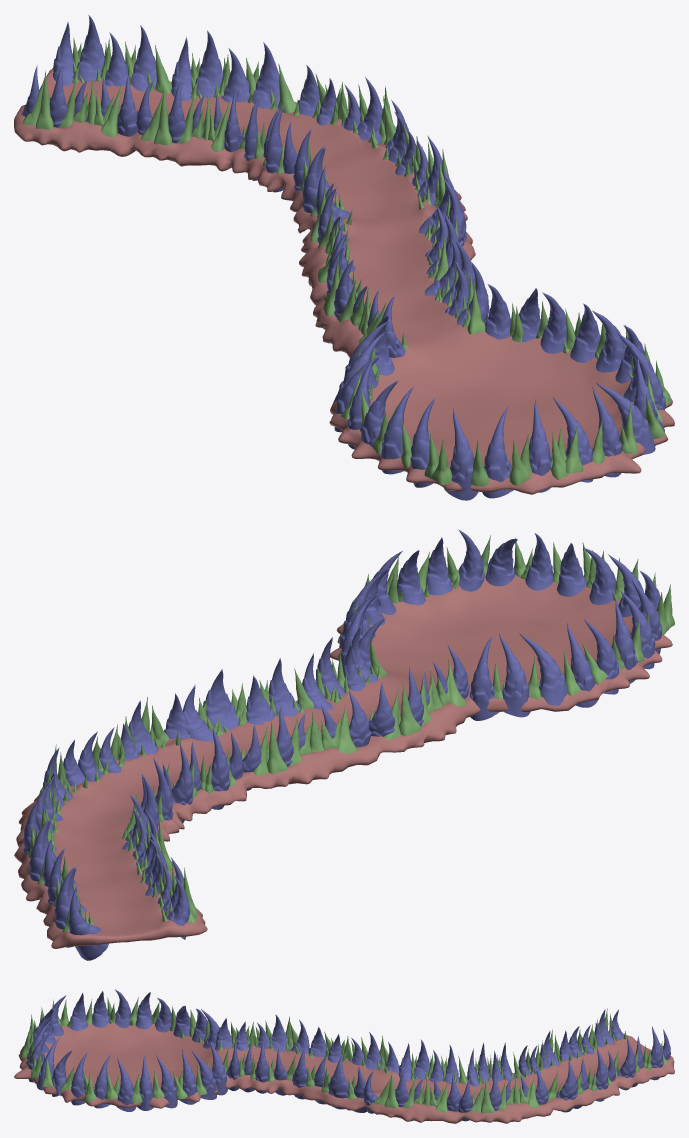
The model's file is Aisle.fbx.
3 views of the same model, one above another, from view 1: azimuth 30°, elevation 25°; view 2: azimuth 150°, elevation 25°; view 3: azimuth 270°, elevation 25° (orthographic). The views are drawn at different scales.
Visible parts, largest first — view 1: Retopo_Piso1, Cuernos, Pinches; view 2: Retopo_Piso1, Cuernos, Pinches; view 3: Cuernos, Retopo_Piso1, Pinches.
Boxes of the visible parts, x1,y1,x2,y2 form: Retopo_Piso1: (14, 68, 674, 494); Cuernos: (21, 15, 665, 500); Pinches: (22, 37, 671, 486); Retopo_Piso1: (14, 572, 672, 948); Cuernos: (23, 529, 662, 960); Pinches: (28, 535, 674, 932); Cuernos: (27, 989, 670, 1121); Retopo_Piso1: (14, 1022, 674, 1123); Pinches: (20, 997, 666, 1113).
Size of the model in its own units: 4.48 by 1.22 by 11.94.
